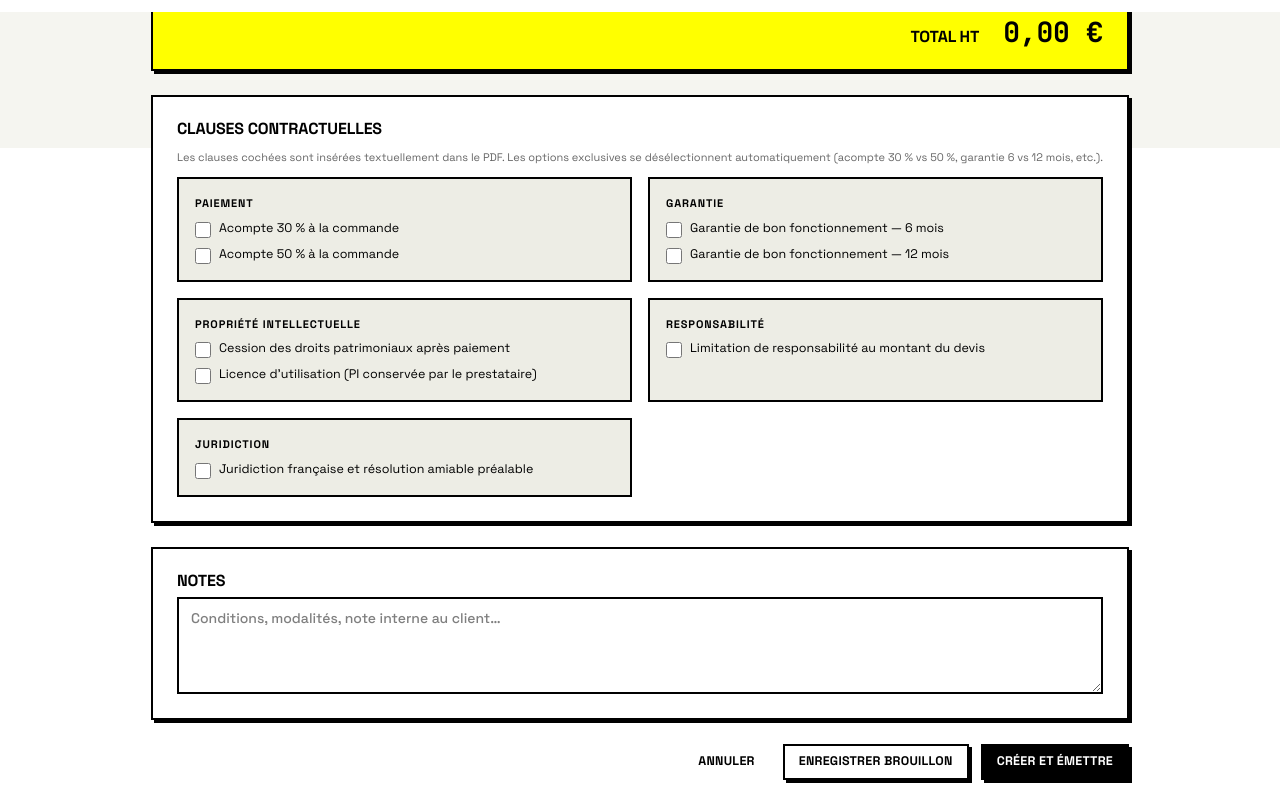
Test: NewManual › affiche des erreurs quand on tente de créer sans client ni item
expect the button with test id "save-draft" is shown: met, box [783,744,969,780]
Click the button with test id "create-and-issue": (1055, 762) [981,744,1129,780]
(page scrolled)
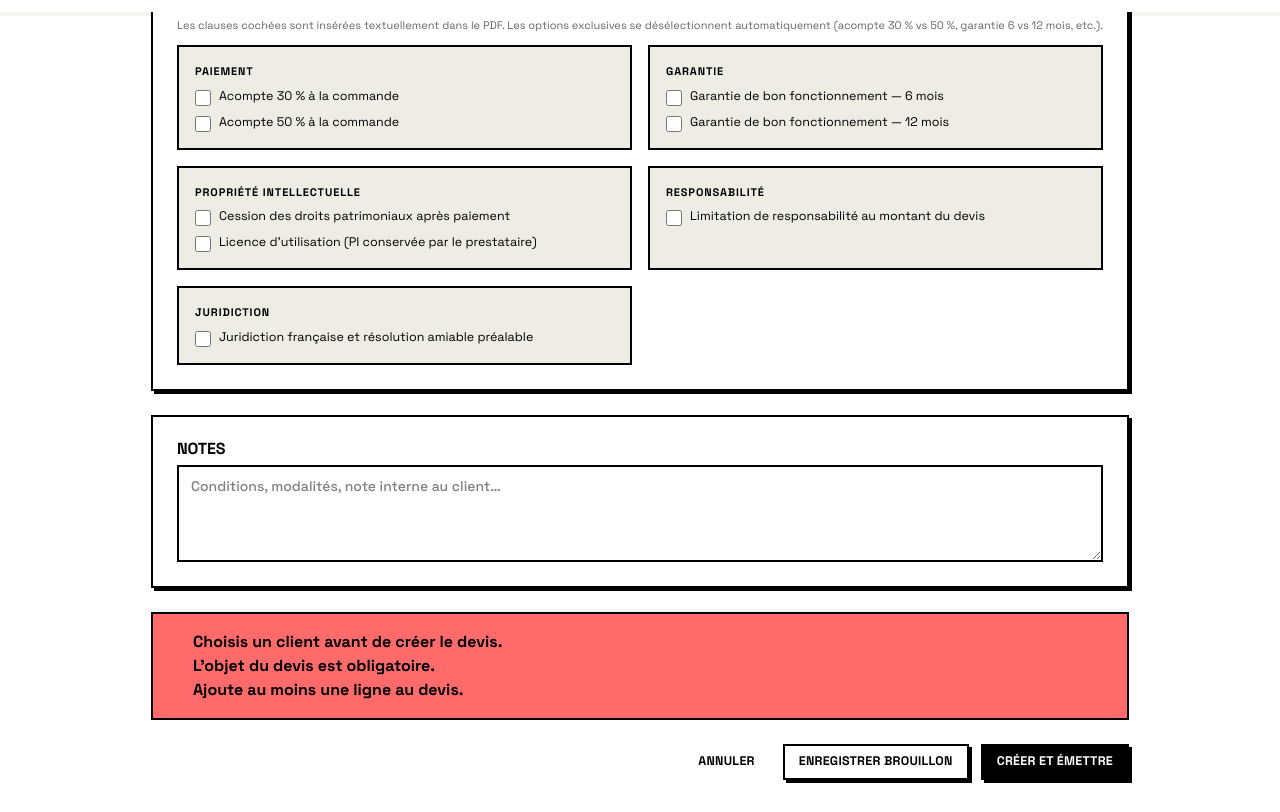
expect the message with test id "form-errors" is shown: met, box [151,612,1129,720]
